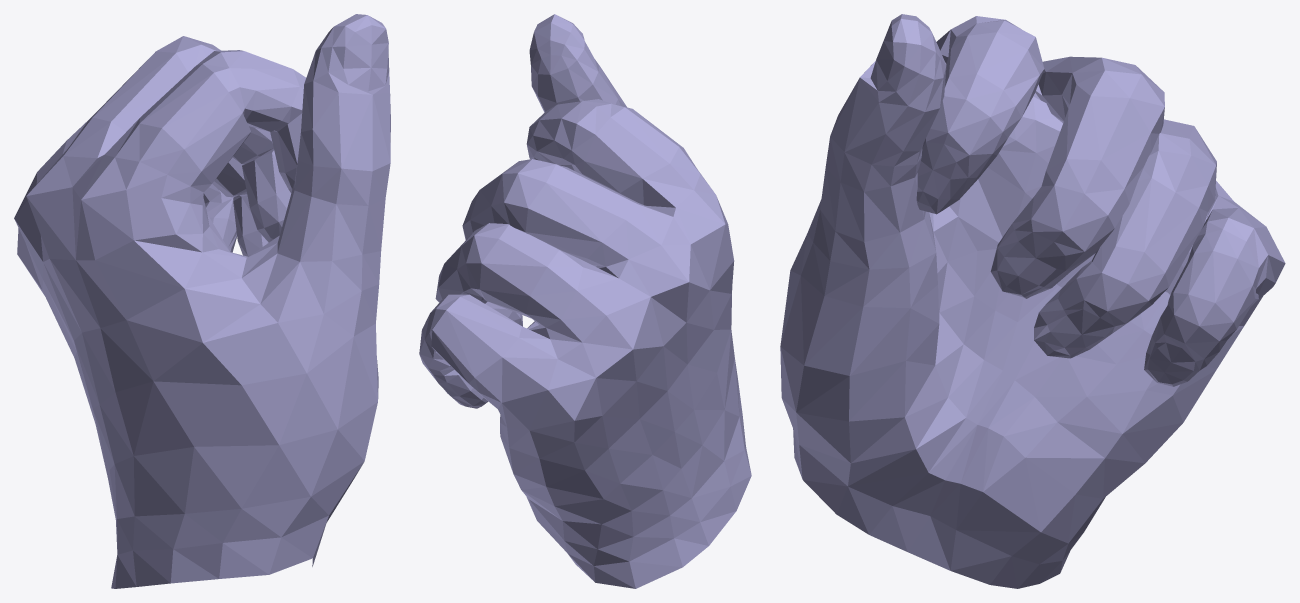
File: frame_0065_source_000065_hand.glb
3 views of the same model, side by side, from view 1: azimuth 30°, elevation 25°; view 2: azimuth 150°, elevation 25°; view 3: azimuth 270°, elevation 25° (orthographic). The views are drawn at different scales.
Parts seen in each view (by area): view 1: world; view 2: world; view 3: world.
Part boxes in pixels (box(x1,y1,x2,y2)): world: box(14, 14, 390, 588); world: box(419, 14, 751, 588); world: box(780, 14, 1285, 588).
Bounding box in the file's own units: 0.0635 × 0.1266 × 0.0937.
